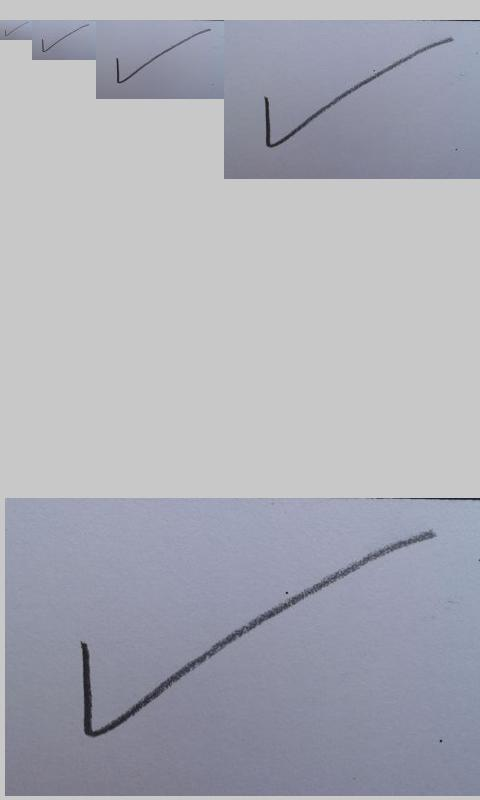check_box: (79, 533, 434, 739), (263, 38, 453, 149), (116, 29, 211, 84), (41, 25, 86, 53), (4, 22, 28, 37)
